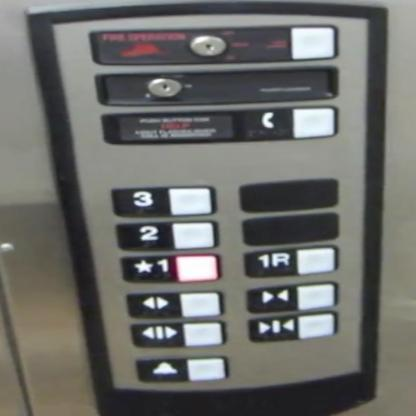1R: (240, 242, 342, 280)
2: (111, 219, 223, 253)
3: (106, 185, 218, 219)
alarm: (132, 354, 233, 386)
call: (226, 103, 342, 145)
close: (241, 280, 341, 315), (243, 309, 341, 344)
empty: (238, 22, 341, 65)
hat: (88, 26, 231, 66)
keyhole: (90, 70, 198, 108)
open: (121, 290, 226, 321), (126, 319, 228, 350)
s1: (116, 252, 224, 286)
